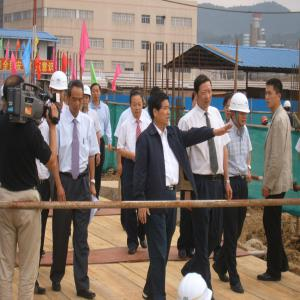none: (148, 92, 172, 129), (4, 75, 28, 106), (193, 76, 215, 109), (264, 78, 285, 109), (68, 80, 85, 116), (130, 91, 145, 118), (223, 95, 234, 121), (90, 83, 103, 103)
red: (262, 117, 270, 127)
white: (230, 92, 251, 128), (50, 72, 69, 106), (82, 85, 92, 109), (283, 101, 292, 113)
